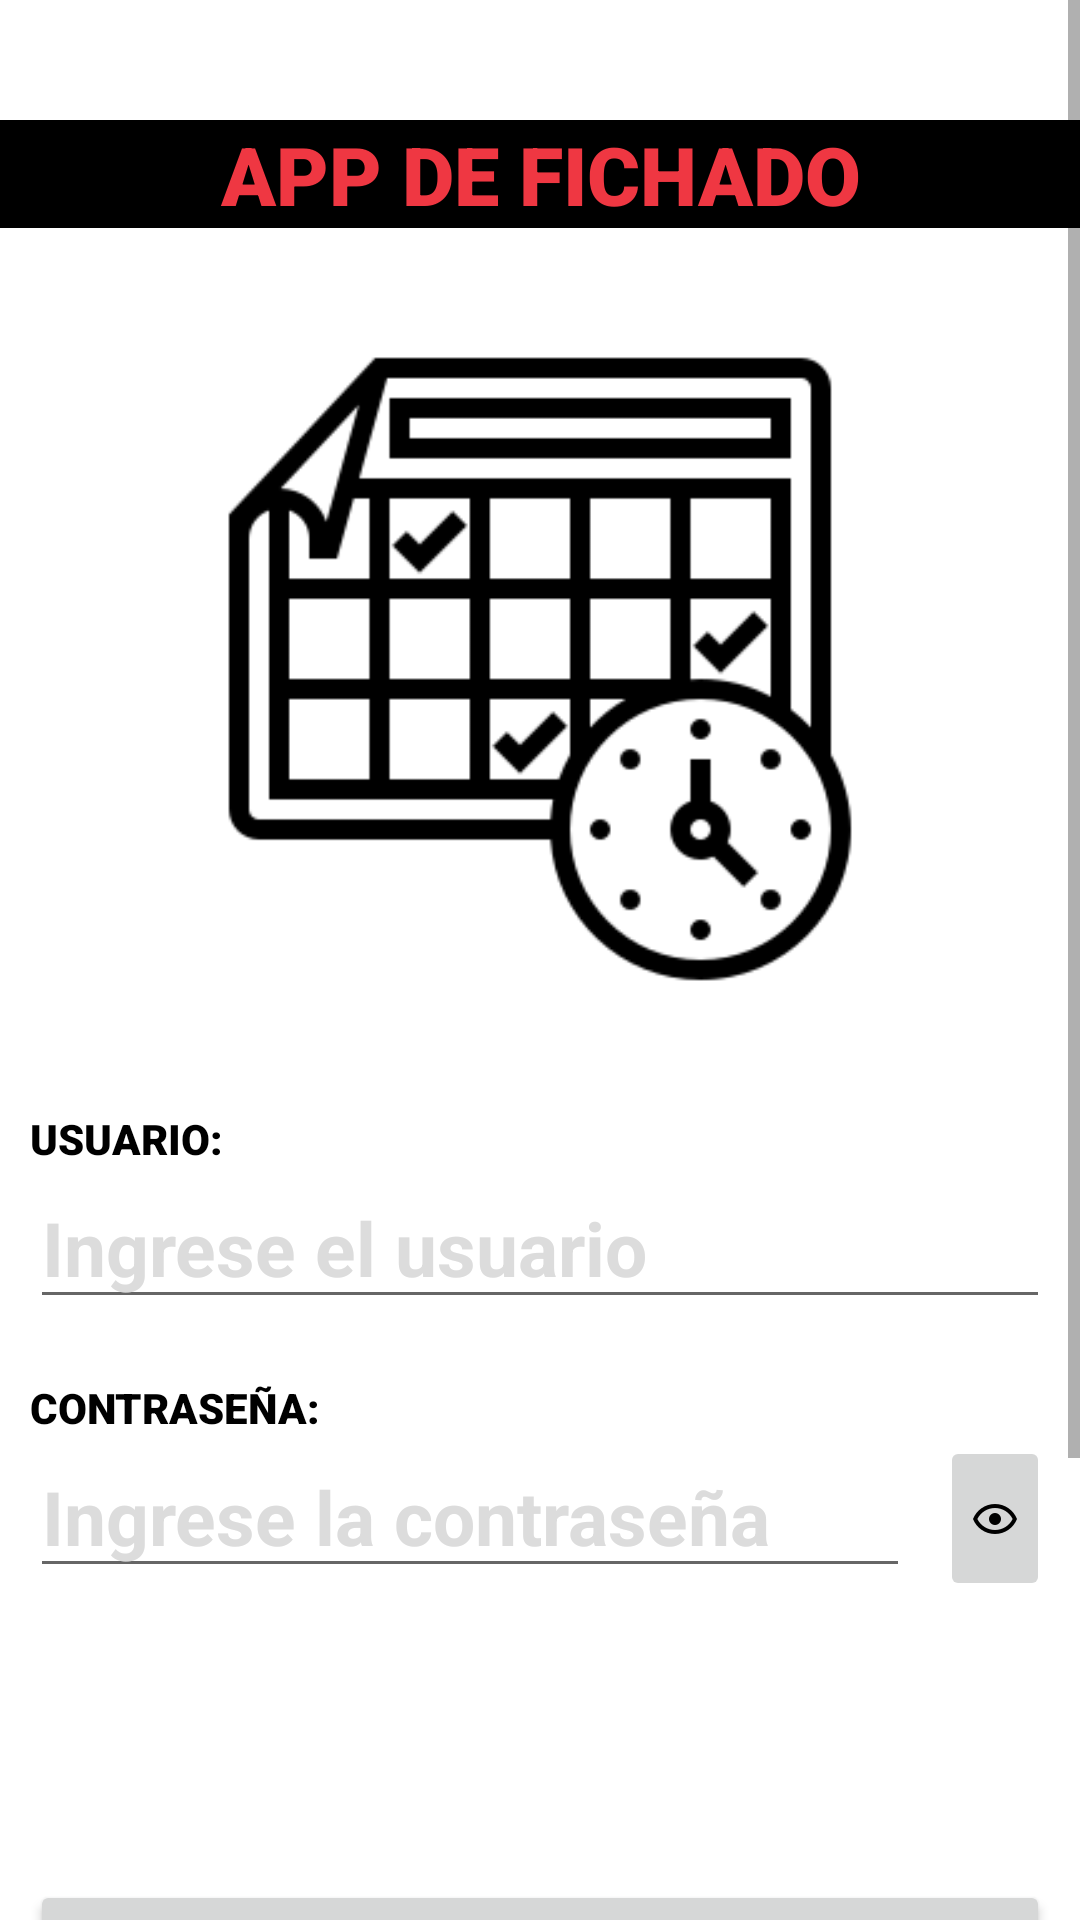

Where icons sit on this 1080 x 1920 app screen, as (x1, y1, x2, y2):
ojoabierto: (952, 1454, 1038, 1583)
